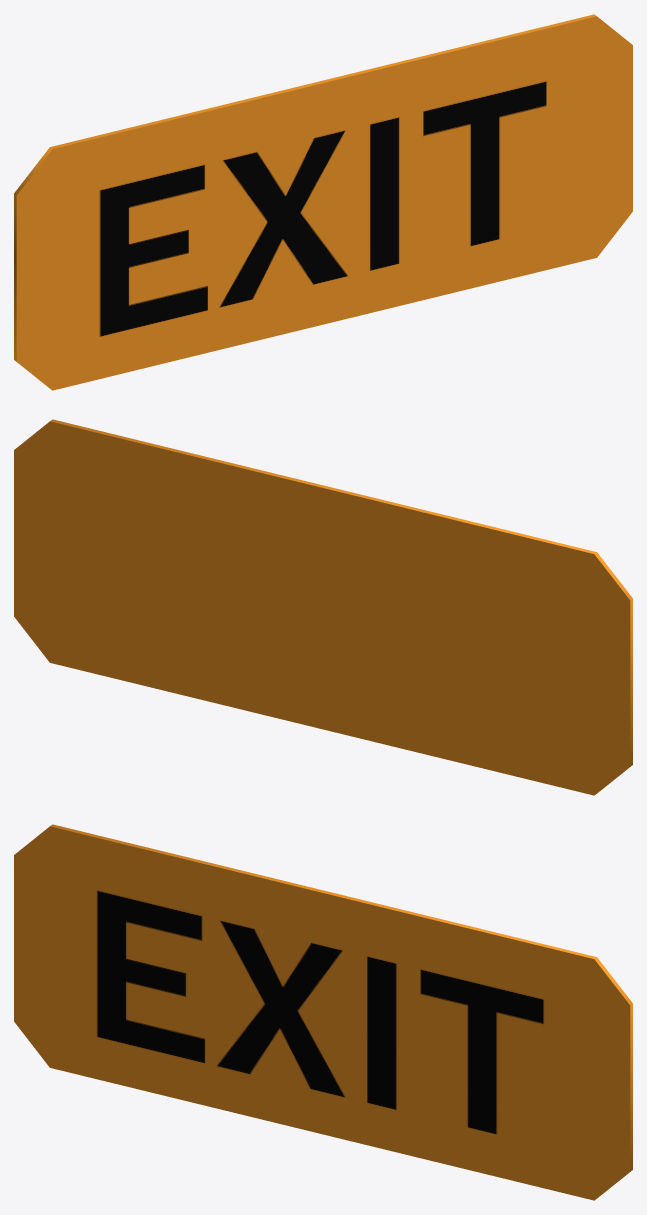
The model's file is SM_sign_02.glb.
3 views of the same model, one above another, from view 1: azimuth 30°, elevation 25°; view 2: azimuth 150°, elevation 25°; view 3: azimuth 330°, elevation 25° (orthographic).
Parts seen in each view (by area): view 1: SM_sign_02; view 2: SM_sign_02; view 3: SM_sign_02.
Part boxes in pixels (<box>): SM_sign_02: <box>14,14,632,390</box>; SM_sign_02: <box>14,419,632,795</box>; SM_sign_02: <box>14,824,632,1200</box>.
Size of the model in its own units: 1.08 by 0.4039 by 0.00838.
1 material, 1 textured.
